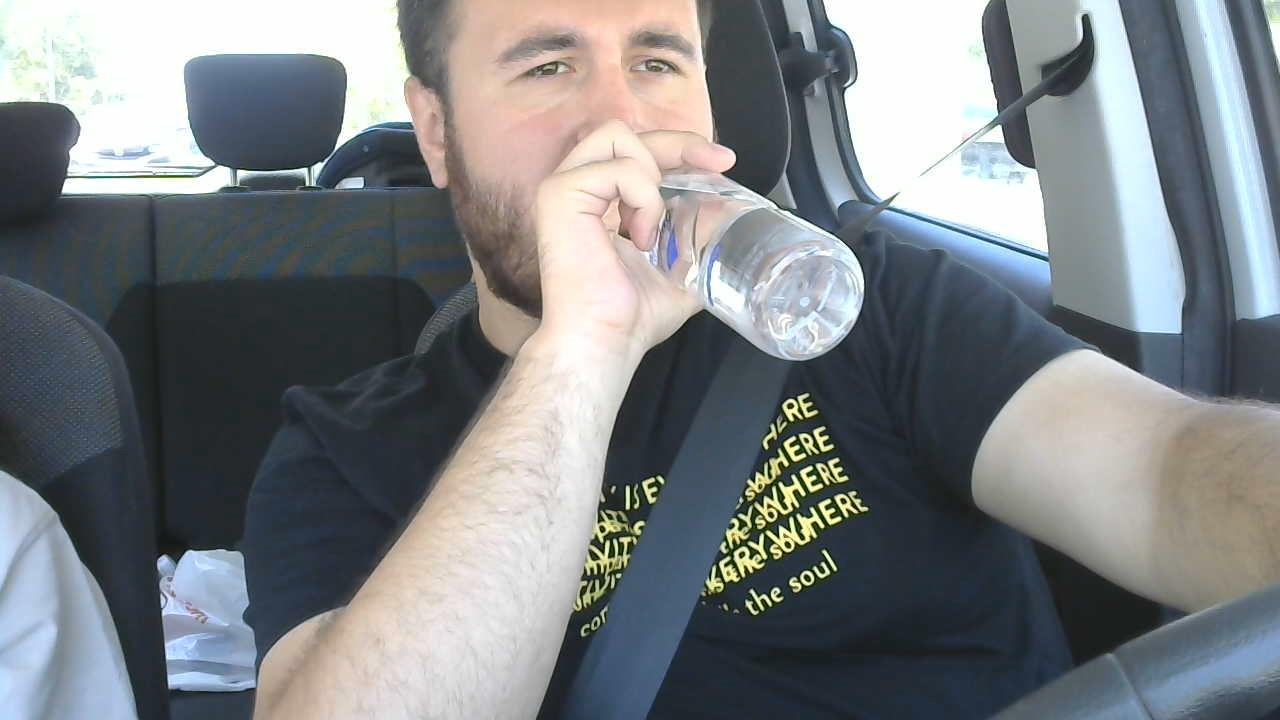Drinking: (603, 137, 864, 362)
